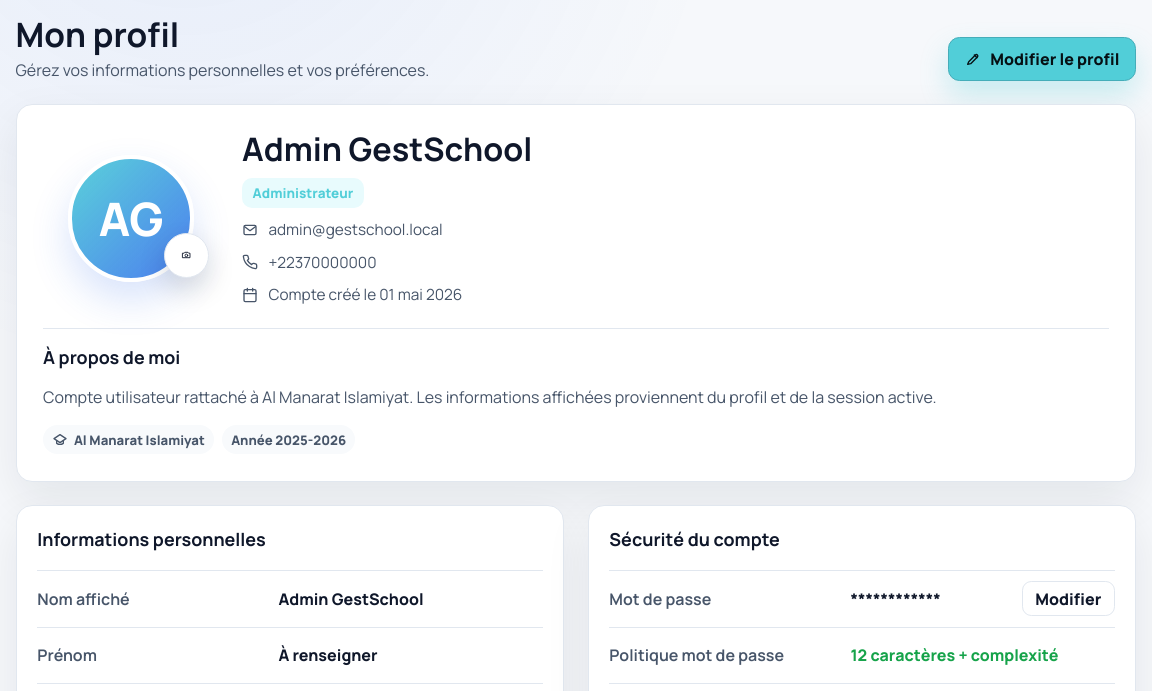
it: ProfileScreen › valide le changement de mot de passe faible ou avec confirmation différente
The width and height of the screenshot is (1152, 691).
Click the button "Modifier": (1068, 599) [1022,581,1115,616]
(page scrolled)
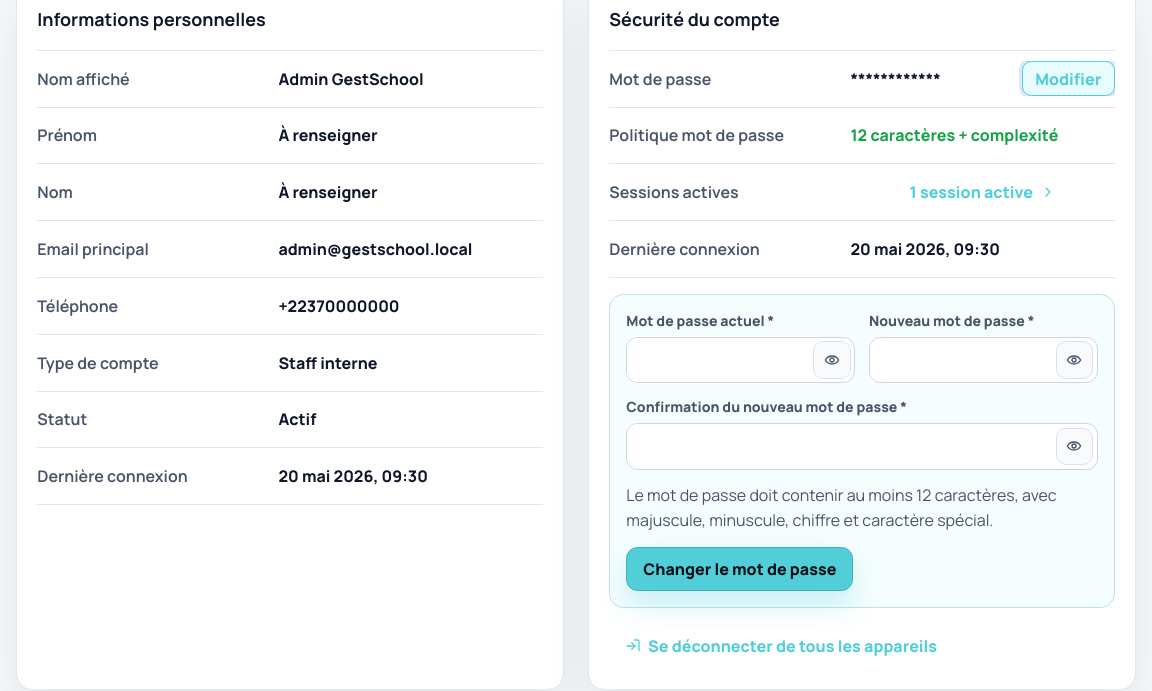
In the password field labelled "Mot de passe actuel *": (718, 360) [627,338,809,382], type "AncienMot1!"
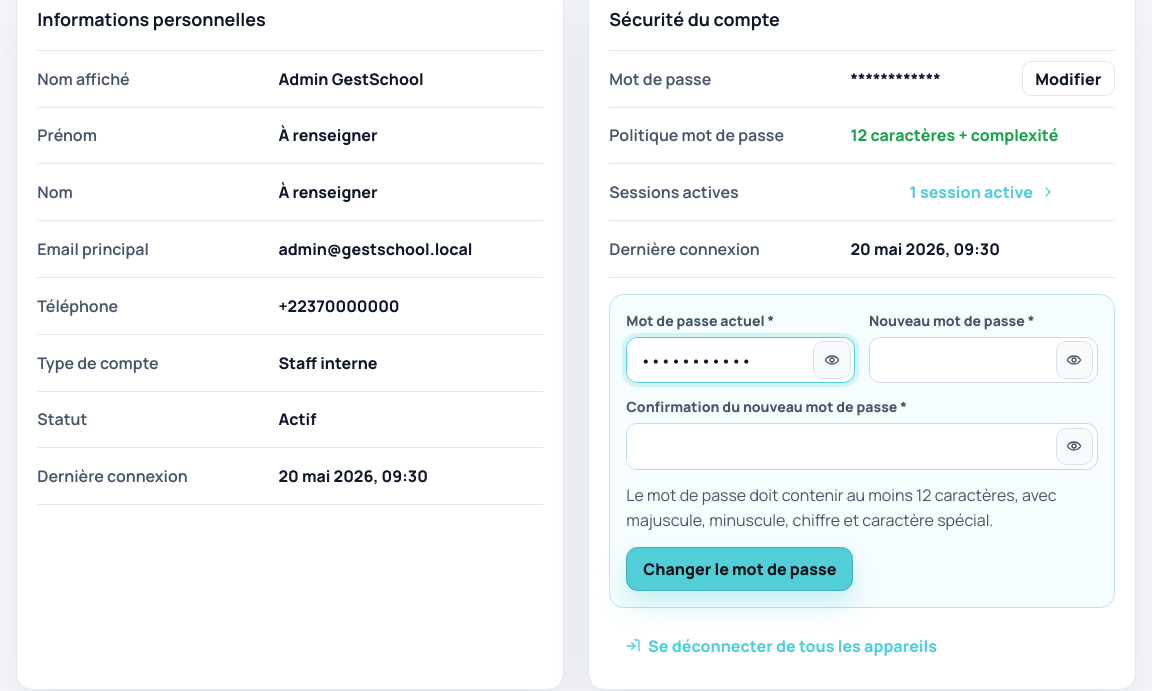
In the password field labelled "Nouveau mot de passe *": (961, 360) [870,338,1052,382], type "faible"
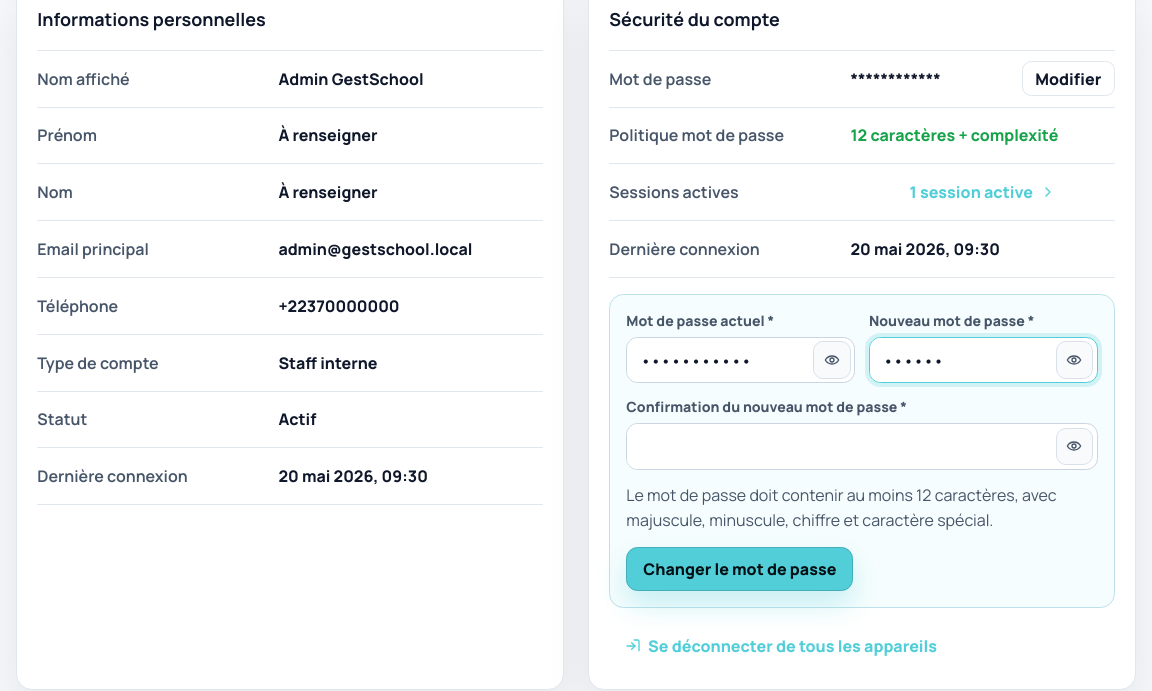
In the password field labelled "Confirmation du nouveau mot de passe *": (840, 446) [627,424,1052,469], type "different"
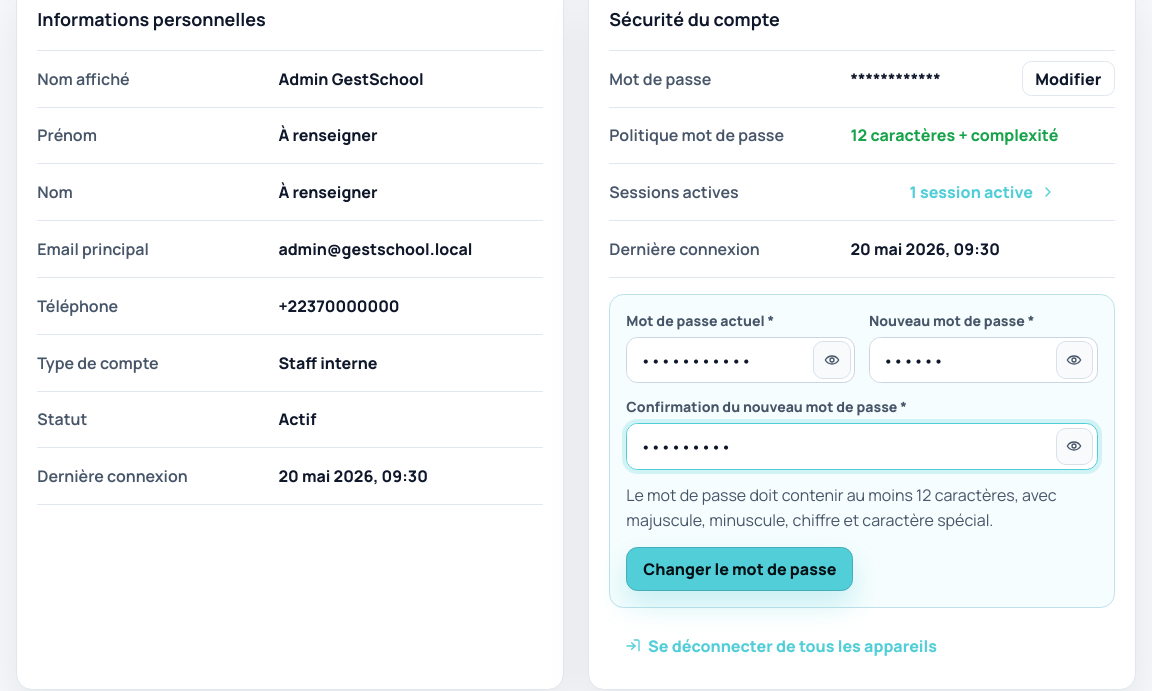
Click the button "Changer le mot de passe": (740, 569) [626,547,853,591]
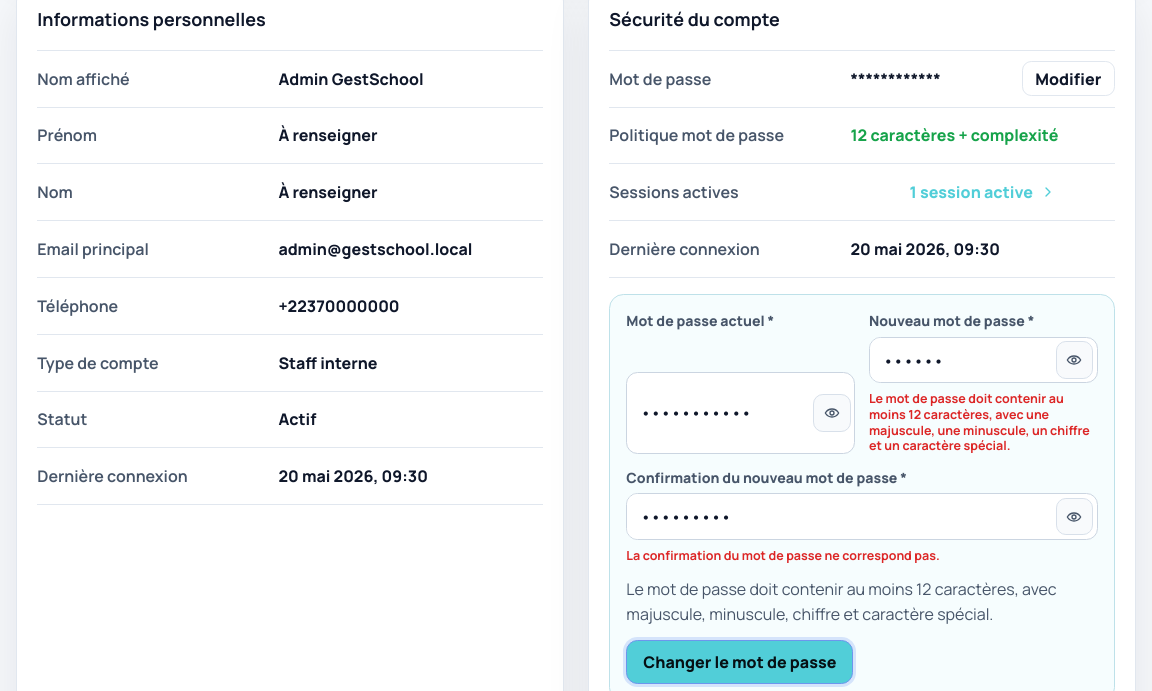
Check: the text "au moins 12 caractères" is shown, box [869,390,1090,454]
Check: the text "La confirmation du mot de passe ne correspond pas." is shown, box [626,547,940,564]
